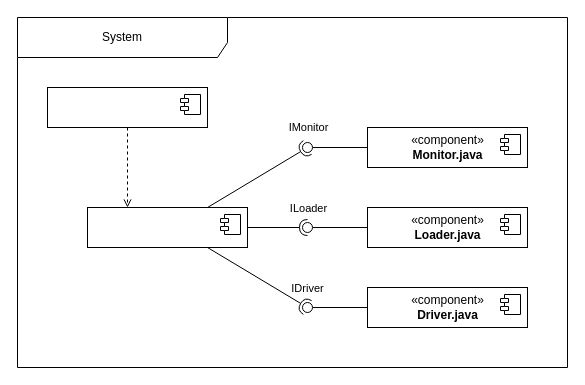
This 585x385 diagram has some shape labels left out. The shapes that lost their labels are listed below. From the top down, each one's centre as x and y in pixels, then its label:
(127,107): «component» Main.java
(167,227): «component» Controller.java
